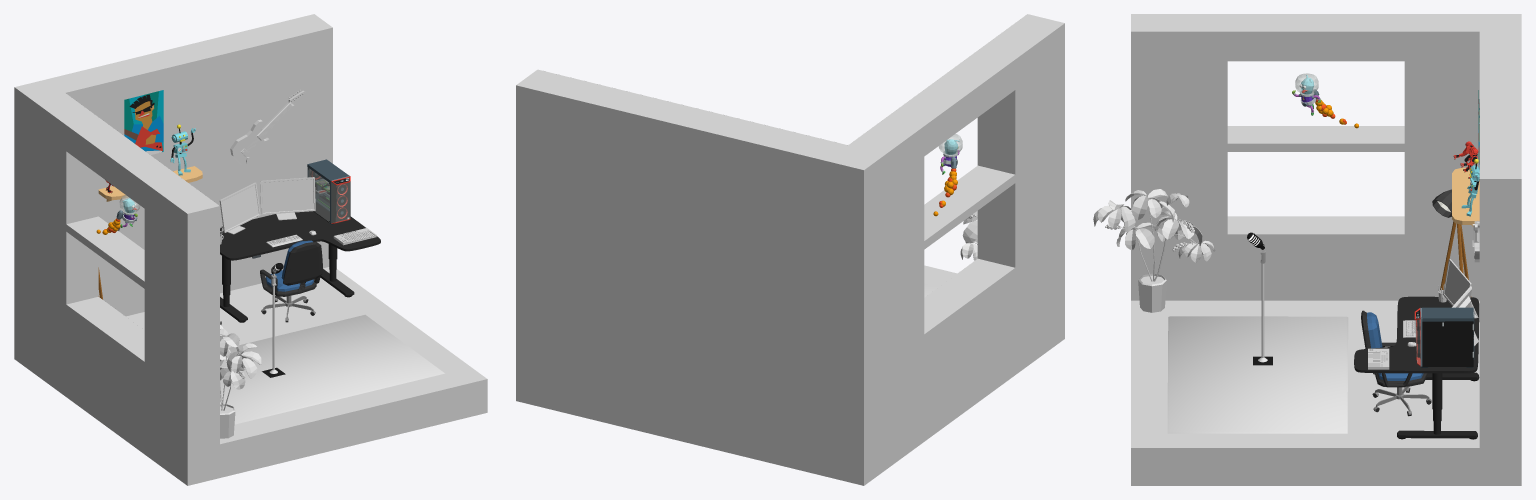
The picture shows the model from 3 angles, left to right: view 1: azimuth 30°, elevation 25°; view 2: azimuth 150°, elevation 25°; view 3: azimuth 270°, elevation 25°; orthographic projection. The views are drawn at different scales.
Parts seen in each view (by area): view 1: Plane, Mur-1, rug, desk, OfficeChair, CoffePlant_mehs, Rock_Band_Poster_Plane.002, computer, Monitor, Monitor.001, ElectricGuitar_mesh, alien (+3 smaller); view 2: Plane, alien, CoffePlant_mehs; view 3: Plane, Mur-2, rug, CoffePlant_mehs, desk, computer, OfficeChair, Shelf, lamp, alien, mic.001, Monitor.001 (+1 smaller).
Boxes of the visible parts, x1=… form: Plane: x1=14, y1=14, x2=487, y2=485; Mur-1: x1=66, y1=27, x2=332, y2=316; rug: x1=220, y1=314, x2=444, y2=424; desk: x1=220, y1=211, x2=380, y2=322; OfficeChair: x1=260, y1=240, x2=322, y2=322; CoffePlant_mehs: x1=220, y1=321, x2=261, y2=438; Rock_Band_Poster_Plane.002: x1=124, y1=90, x2=163, y2=154; computer: x1=307, y1=159, x2=350, y2=224; Monitor: x1=260, y1=177, x2=315, y2=220; Monitor.001: x1=219, y1=182, x2=260, y2=234; ElectricGuitar_mesh: x1=230, y1=89, x2=306, y2=165; alien: x1=96, y1=195, x2=140, y2=234; Plane: x1=516, y1=14, x2=1064, y2=485; alien: x1=933, y1=134, x2=962, y2=216; CoffePlant_mehs: x1=960, y1=211, x2=977, y2=260; Plane: x1=1131, y1=14, x2=1521, y2=485; Mur-2: x1=1131, y1=31, x2=1479, y2=300; rug: x1=1167, y1=316, x2=1348, y2=433; CoffePlant_mehs: x1=1093, y1=189, x2=1215, y2=312; desk: x1=1354, y1=296, x2=1479, y2=439; computer: x1=1414, y1=307, x2=1474, y2=367; OfficeChair: x1=1361, y1=310, x2=1431, y2=416; Shelf: x1=1452, y1=167, x2=1479, y2=226; lamp: x1=1432, y1=189, x2=1471, y2=296; alien: x1=1292, y1=73, x2=1358, y2=128; mic.001: x1=1247, y1=232, x2=1272, y2=365; Monitor.001: x1=1443, y1=259, x2=1478, y2=318.
Size of the model in its own units: 4.46 by 3.86 by 4.88.
